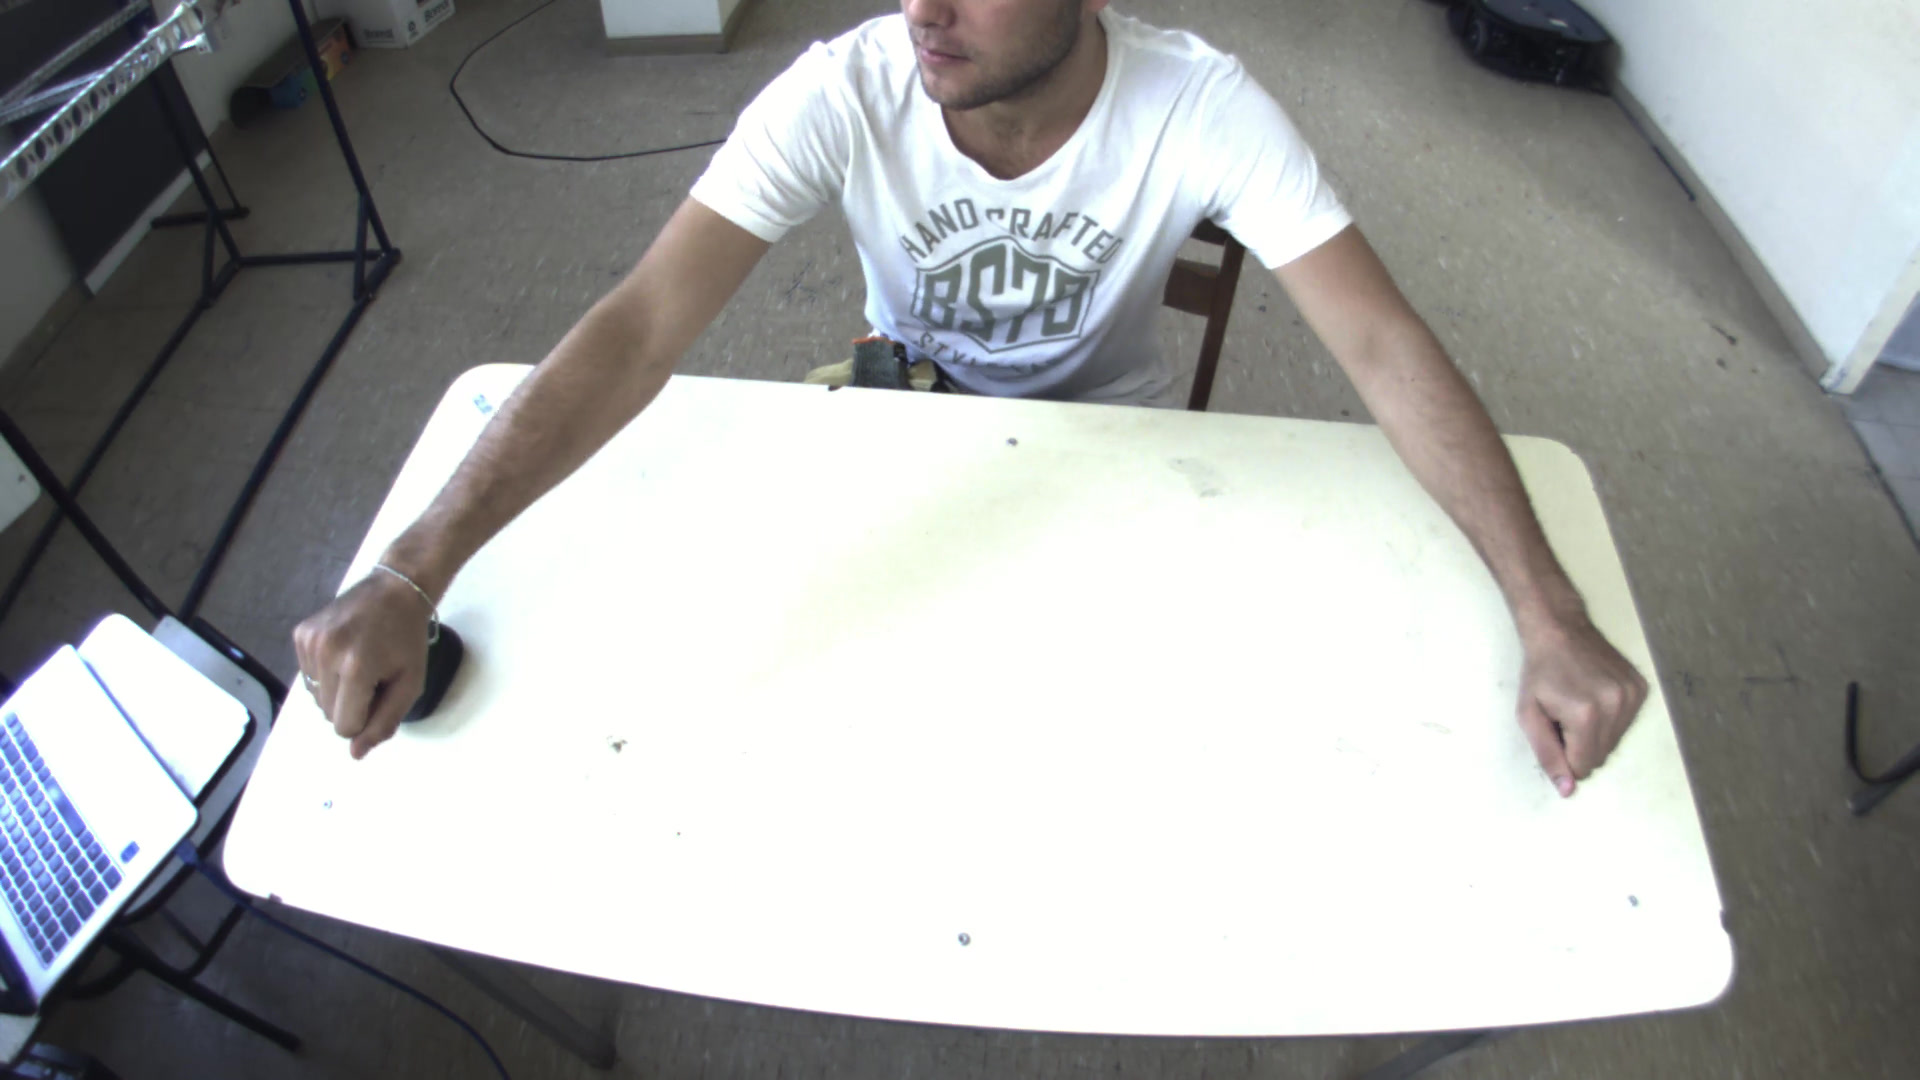hand: (280, 567, 440, 764), (1505, 615, 1656, 796)
